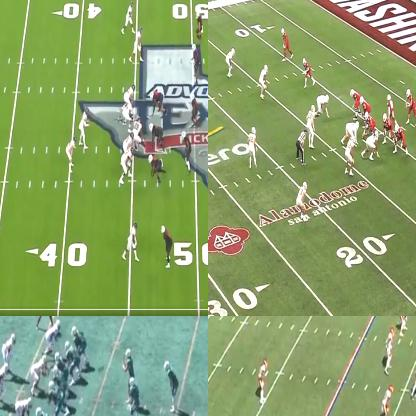CENTER: (362, 112, 374, 139), (54, 353, 67, 377), (133, 122, 143, 151)
DB: (296, 179, 310, 216), (246, 125, 259, 164), (160, 224, 171, 264), (259, 360, 269, 404), (225, 48, 235, 77), (384, 386, 393, 415), (198, 16, 206, 41)
LB: (305, 103, 317, 148), (182, 127, 194, 165), (386, 330, 396, 375), (0, 332, 12, 364), (258, 65, 269, 94), (346, 136, 354, 174), (192, 44, 200, 79), (0, 363, 7, 401), (400, 316, 412, 336), (192, 92, 199, 124), (38, 316, 53, 322)
QB: (405, 90, 415, 130), (79, 110, 88, 151), (123, 344, 133, 372)
SKILL: (130, 29, 146, 63), (165, 363, 177, 408), (126, 224, 139, 261), (302, 55, 315, 88), (281, 27, 293, 59), (129, 377, 139, 415), (122, 3, 134, 34), (67, 139, 74, 168), (388, 95, 396, 114)
